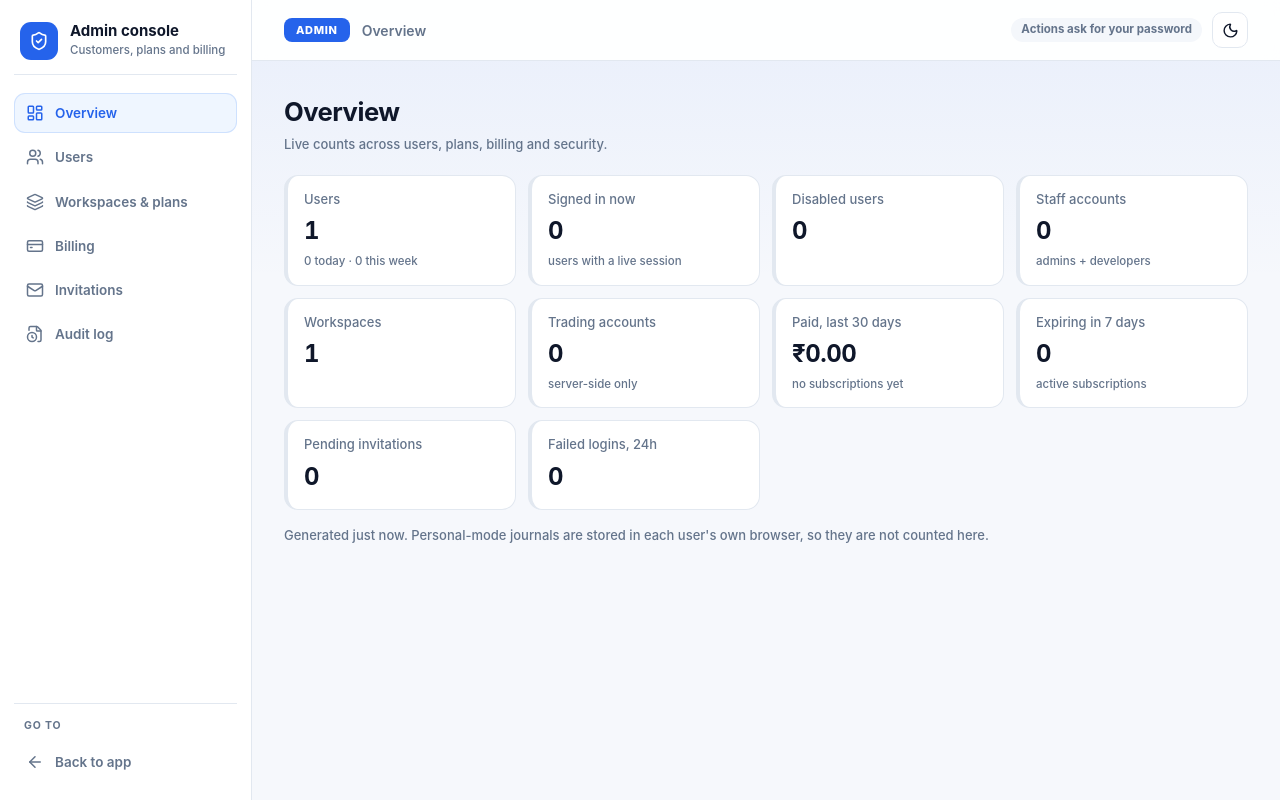
it: Support actions › shows the four actions for a customer
The image size is (1280, 800).
What coordinates should you click on to do the following:
click the tab "Users"
I would click on:
 (126, 157)
Its box is [14,137,237,178].
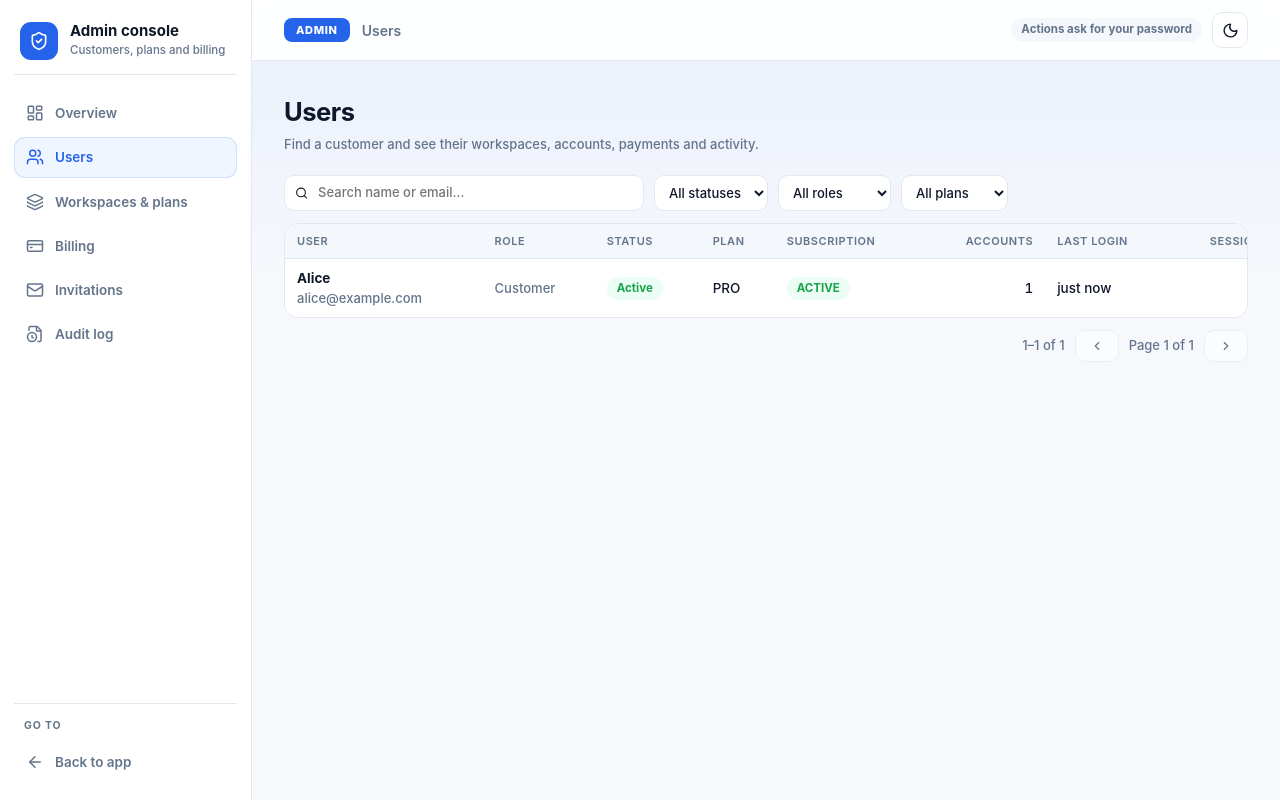
What coordinates should you click on to do the following:
click the row with class "adm-clickable"
I would click on:
 (314, 278)
Its box is [285,259,1279,317].
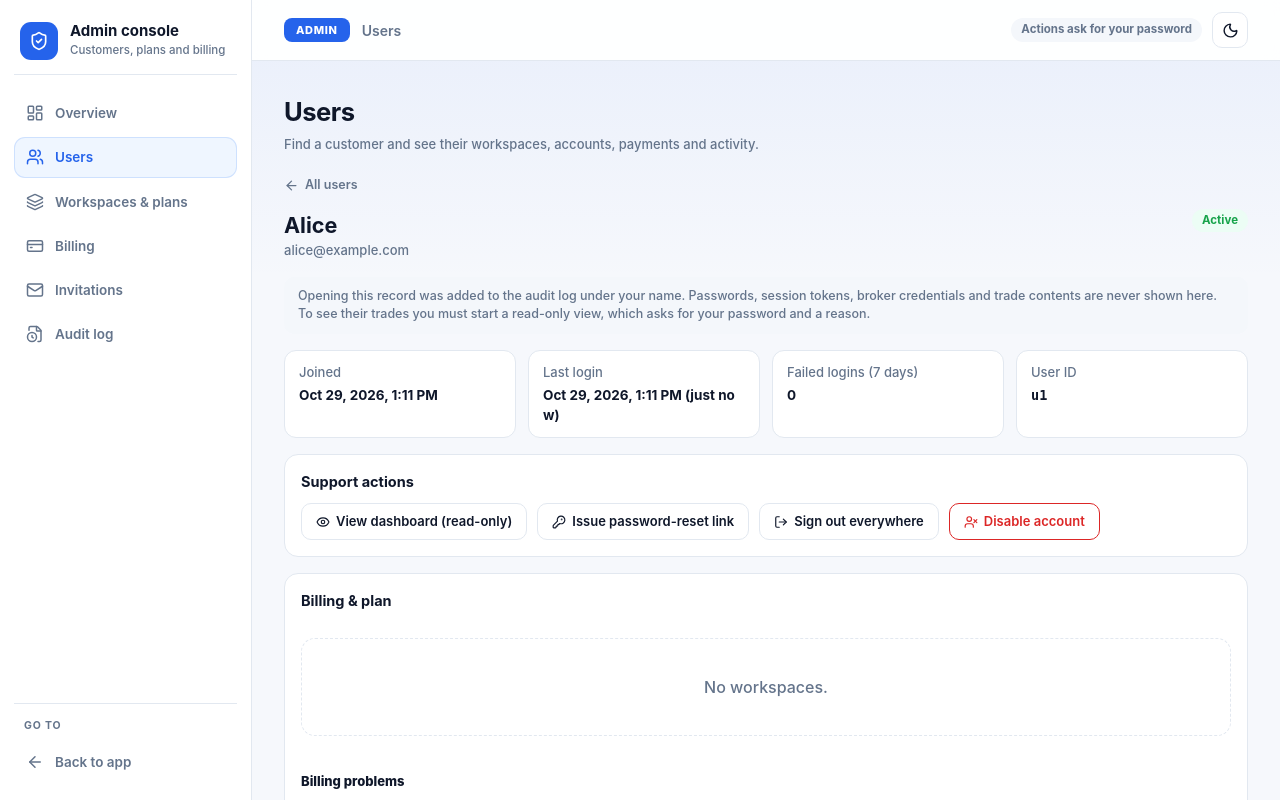
Result: the text "View dashboard (read-only)" is shown at [301,503,527,540]
Result: the text "Issue password-reset link" is shown at [537,503,749,540]
Result: the text "Sign out everywhere" is shown at [759,503,939,540]
